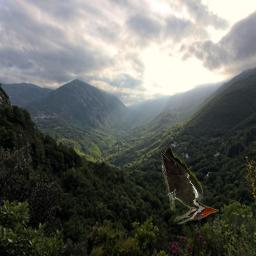Woodpecker: (161, 147, 219, 224)
